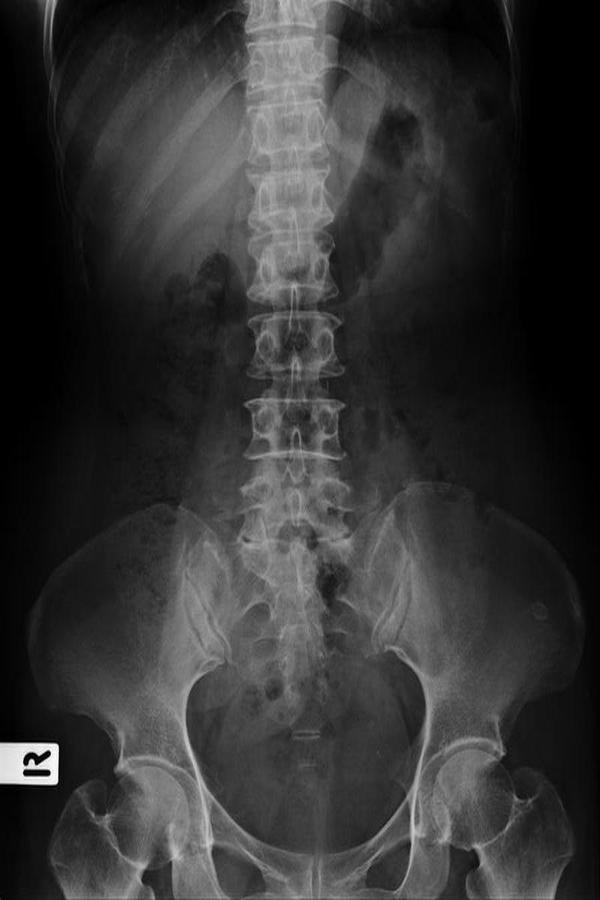lumbar scoliosis: (231, 6, 349, 581)
